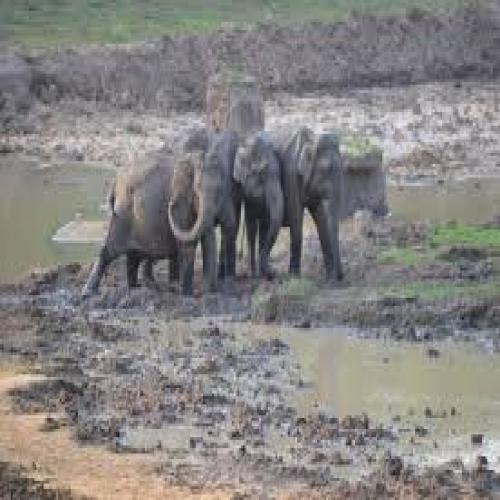asian_elephant-endangered: (81, 156, 218, 293), (164, 129, 285, 272), (254, 129, 344, 285)
